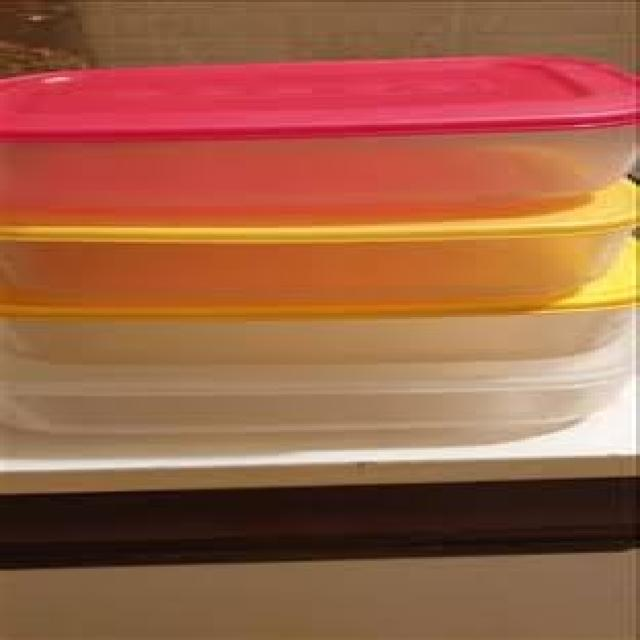plastic: (0, 50, 635, 212), (0, 294, 640, 447), (0, 188, 640, 304)
